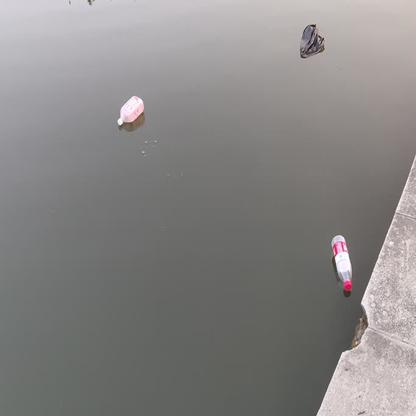plastic bag: (299, 23, 324, 59)
plastic bottle: (332, 235, 353, 291), (118, 96, 144, 125)
